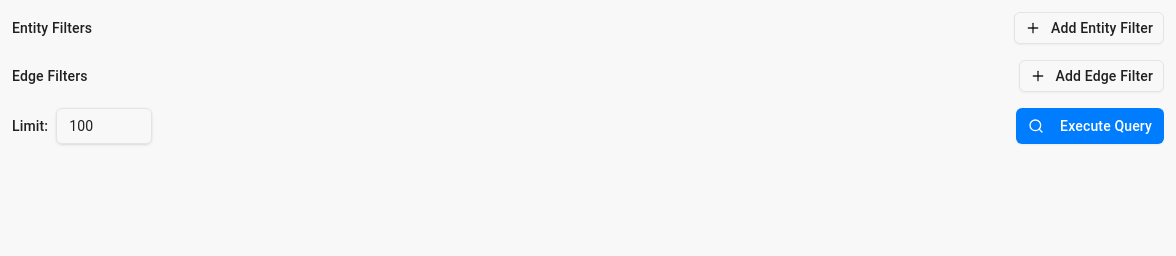
Test: QueryBuilder › adds edge filter
This screenshot has width=1176, height=256.
What coordinates should you click on to do the following:
click the button "Add Edge Filter"
I would click on:
 (1091, 76)
Its box is [1018, 60, 1164, 92].
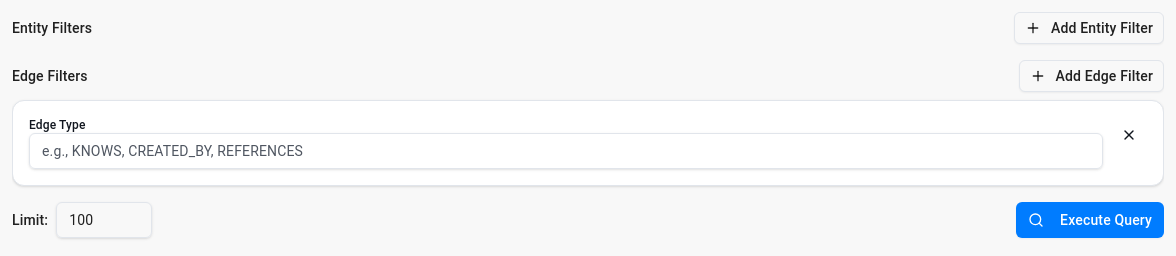
Now the field with placeholder "e.g., KNOWS, CREATED_BY, REFERENCES" is shown, box [29, 133, 1103, 169]
